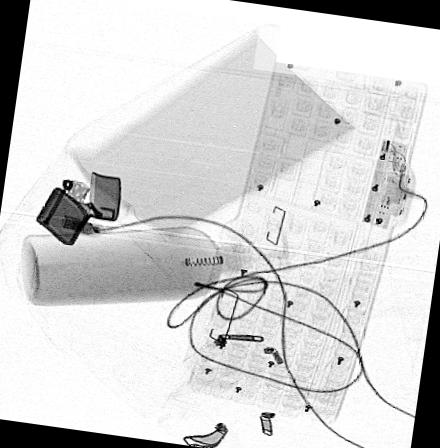Lighter: (34, 170, 122, 245)
